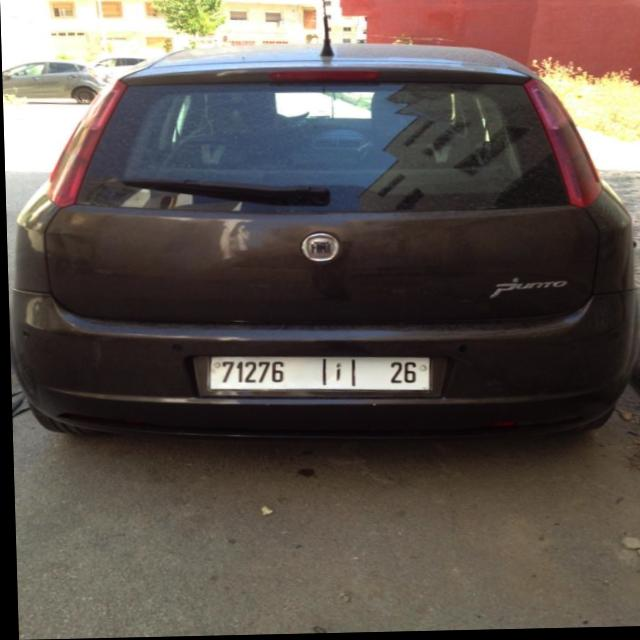License-Plate: (206, 358, 429, 392)
